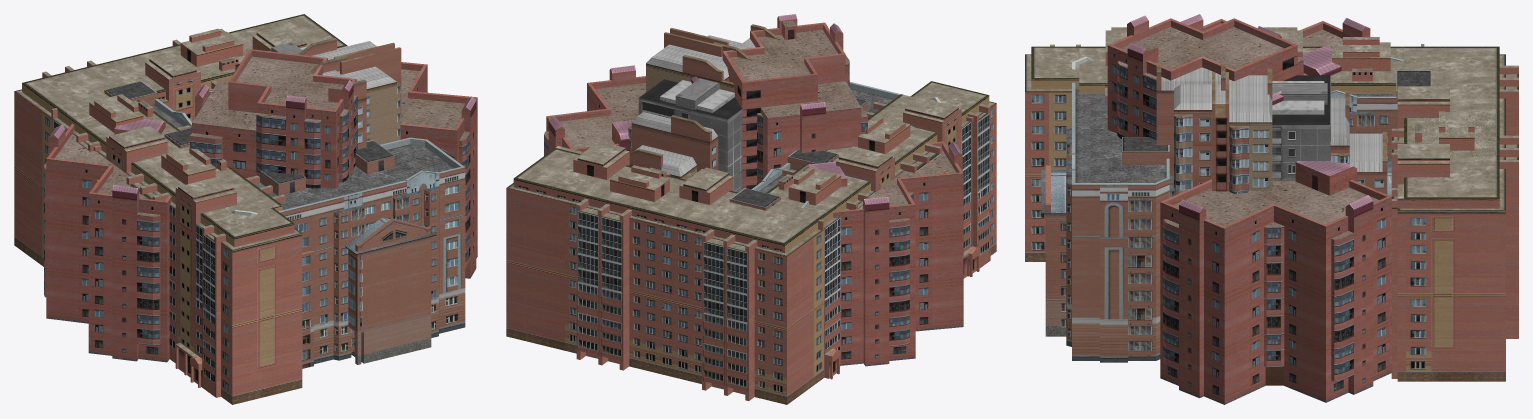
The model's file is Buildings_pack01.FBX.
3 views of the same model, side by side, from view 1: azimuth 30°, elevation 25°; view 2: azimuth 150°, elevation 25°; view 3: azimuth 270°, elevation 25° (orthographic). The views are drawn at different scales.
Parts seen in each view (by area): view 1: house_25_r, house_26_r, house_28_r, house_24_r, house_27_r; view 2: house_25_r, house_26_r, house_27_r, house_31_n, house_28_r; view 3: house_26_r, house_25_r, house_28_r, house_27_r, house_31_n, house_24_r.
Part boxes in pixels (x1,y1,x2,y2): house_25_r: (14,14,347,404); house_26_r: (44,49,477,362); house_28_r: (104,81,465,368); house_24_r: (345,218,436,364); house_27_r: (269,38,401,149); house_25_r: (506,81,996,404); house_26_r: (544,14,963,366); house_27_r: (628,24,781,179); house_31_n: (638,78,742,192); house_28_r: (729,82,940,210); house_26_r: (1107,14,1391,404); house_25_r: (1025,27,1518,381); house_28_r: (1066,56,1431,362); house_27_r: (1156,63,1387,195); house_31_n: (1272,75,1330,180); house_24_r: (1041,157,1391,336).
Size of the model in its own units: 3329 by 3306 by 2022.
